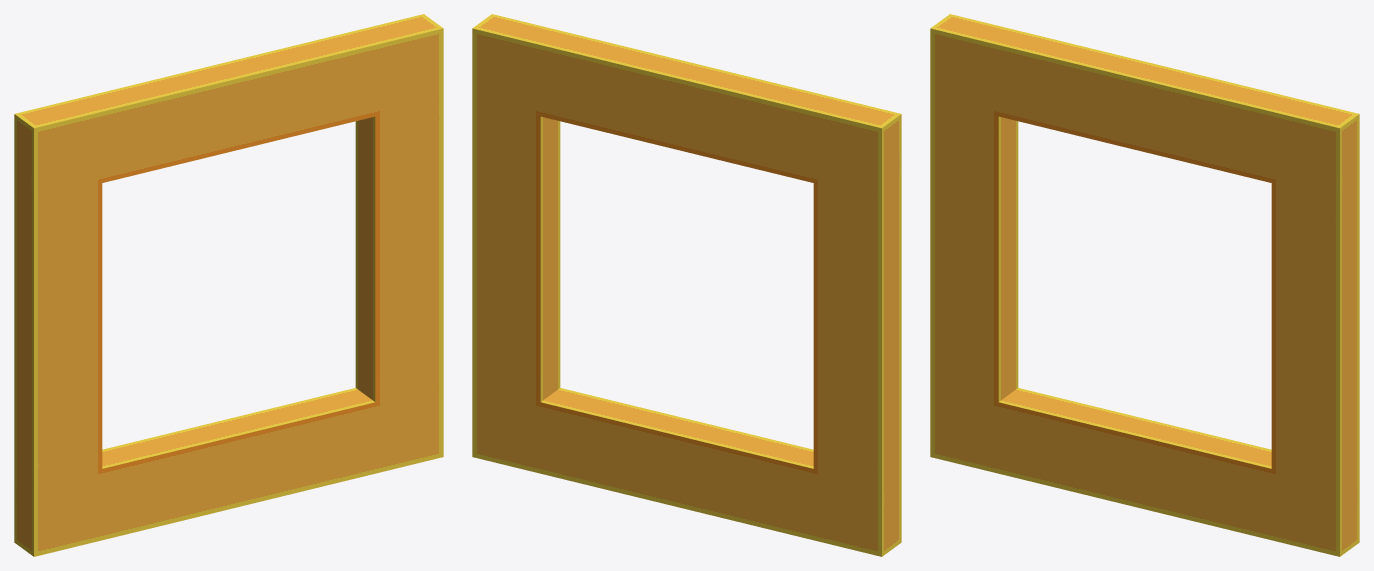
The model's file is stargate_ring_bao.fezao.glb.
The picture shows the model from 3 angles, left to right: view 1: azimuth 30°, elevation 25°; view 2: azimuth 150°, elevation 25°; view 3: azimuth 330°, elevation 25°; orthographic projection.
Parts seen in each view (by area): view 1: STARGATE_RING_BAO; view 2: STARGATE_RING_BAO; view 3: STARGATE_RING_BAO.
Boxes of the visible parts, bbox=[...] form: STARGATE_RING_BAO: bbox=[14, 14, 443, 556]; STARGATE_RING_BAO: bbox=[472, 14, 901, 556]; STARGATE_RING_BAO: bbox=[930, 14, 1359, 556].
Size of the model in its own units: 6 by 6 by 0.5.
1 material, 1 textured.
